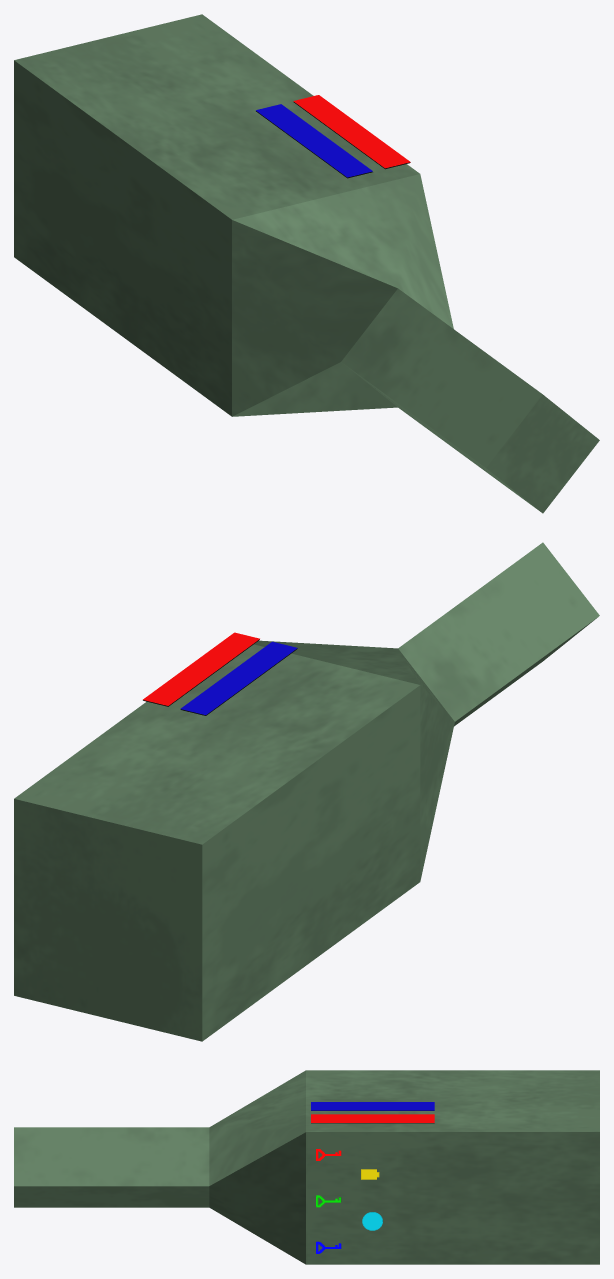
Rendered from player_gun.glb.
3 renders of one model, top to bottom at view 1: azimuth 30°, elevation 25°; view 2: azimuth 150°, elevation 25°; view 3: azimuth 270°, elevation 25°, orthographic. The views are drawn at different scales.
Visible parts, largest first — view 1: Cube, HealthBar, EnergyBar; view 2: Cube, HealthBar, EnergyBar; view 3: Cube, HealthBar, EnergyBar, Powerup1.
Part boxes in pixels (x1=…): Cube: x1=14, y1=14, x2=599, y2=513; HealthBar: x1=293, y1=95, x2=410, y2=168; EnergyBar: x1=256, y1=104, x2=372, y2=177; Cube: x1=14, y1=542, x2=599, y2=1041; HealthBar: x1=143, y1=632, x2=259, y2=705; EnergyBar: x1=180, y1=641, x2=297, y2=715; Cube: x1=14, y1=1070, x2=599, y2=1264; HealthBar: x1=311, y1=1114, x2=434, y2=1122; EnergyBar: x1=311, y1=1102, x2=434, y2=1110; Powerup1: x1=362, y1=1212, x2=382, y2=1230.
Bounding box in the file's own units: 2.1 × 2.11 × 8.
9 materials, 6 textured.
